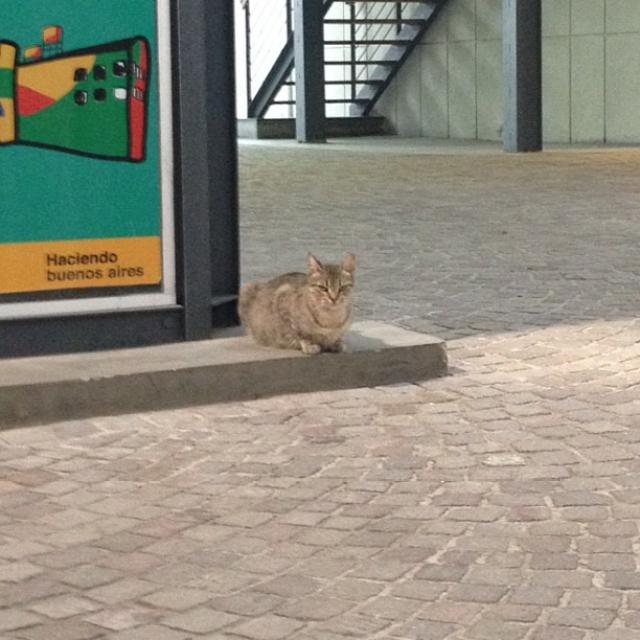cats: (233, 245, 362, 358)
